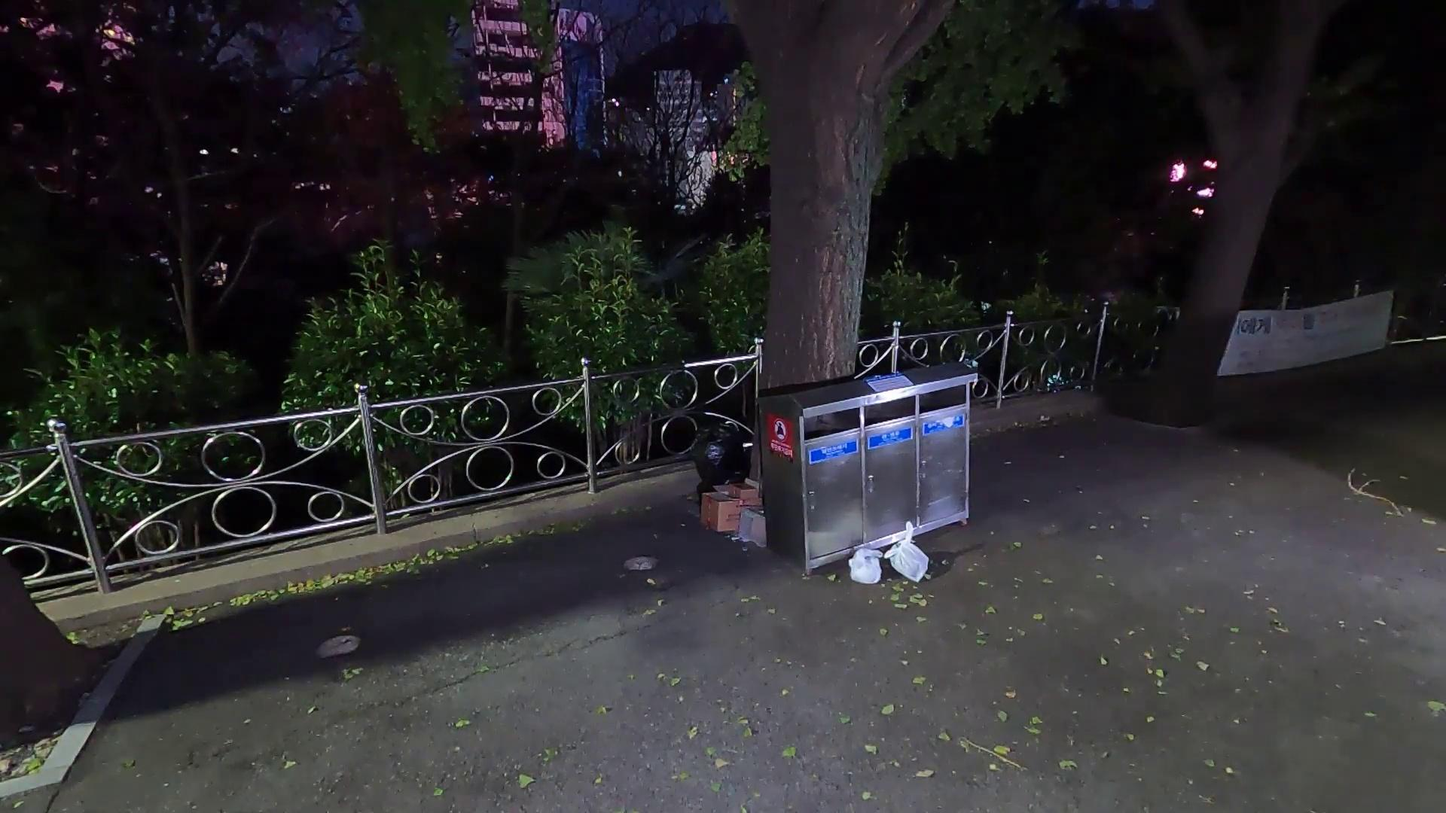trash: (690, 418, 746, 498), (883, 522, 929, 583), (699, 490, 763, 533), (695, 468, 748, 518), (732, 502, 767, 549), (847, 547, 884, 585), (724, 480, 759, 501)
